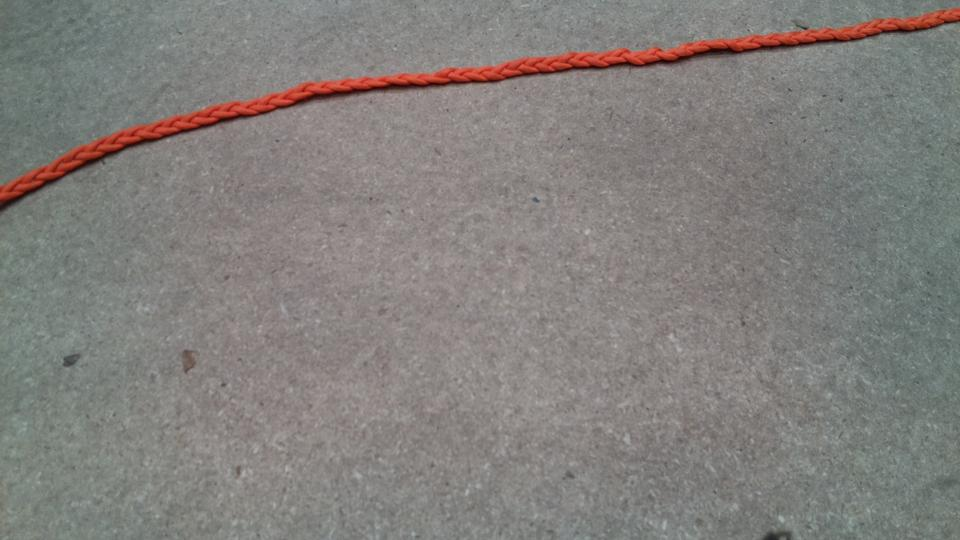rope: (1, 6, 957, 216)
